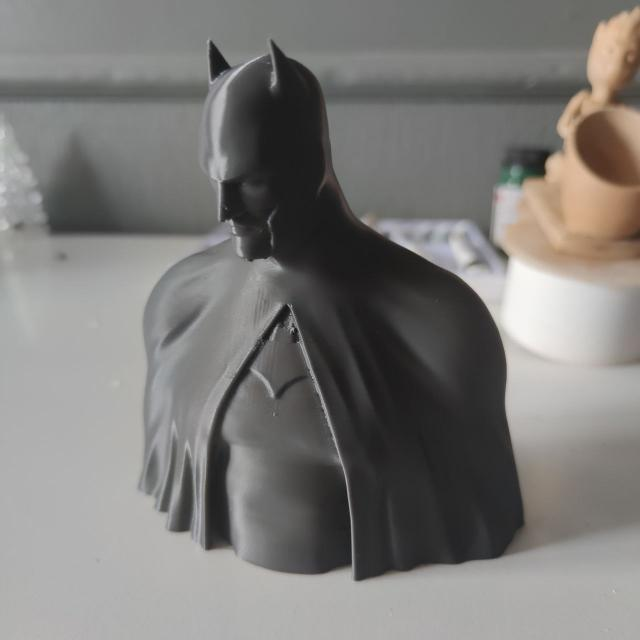Without deffect: (128, 24, 540, 603)
